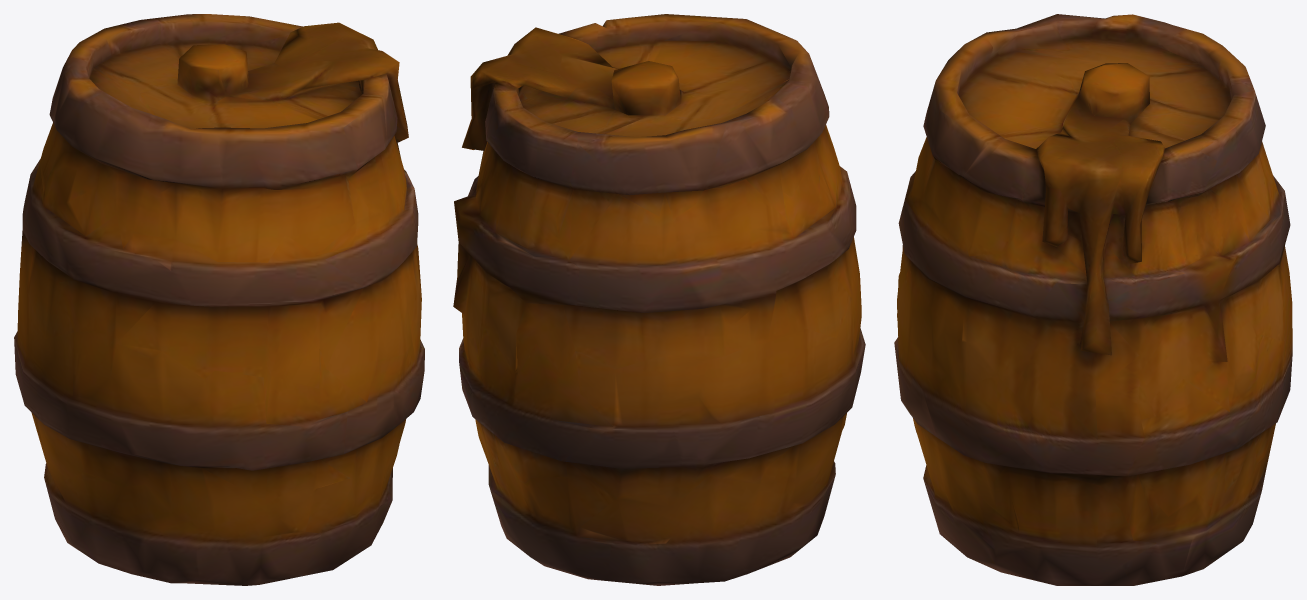
File: model-prop-barrel-oil-01.glb
3 views of the same model, side by side, from view 1: azimuth 30°, elevation 25°; view 2: azimuth 150°, elevation 25°; view 3: azimuth 270°, elevation 25° (orthographic). The views are drawn at different scales.
Visible parts, largest first — view 1: tripo_node_c5491835-2a96-4a7b-af84-2476d33e0b5f; view 2: tripo_node_c5491835-2a96-4a7b-af84-2476d33e0b5f; view 3: tripo_node_c5491835-2a96-4a7b-af84-2476d33e0b5f.
Part boxes in pixels (x1,y1,x2,y2): tripo_node_c5491835-2a96-4a7b-af84-2476d33e0b5f: (14,14,424,585); tripo_node_c5491835-2a96-4a7b-af84-2476d33e0b5f: (453,14,865,585); tripo_node_c5491835-2a96-4a7b-af84-2476d33e0b5f: (894,14,1292,585).
Size of the model in its own units: 0.5464 by 0.65 by 0.5236.
1 material, 1 textured.
